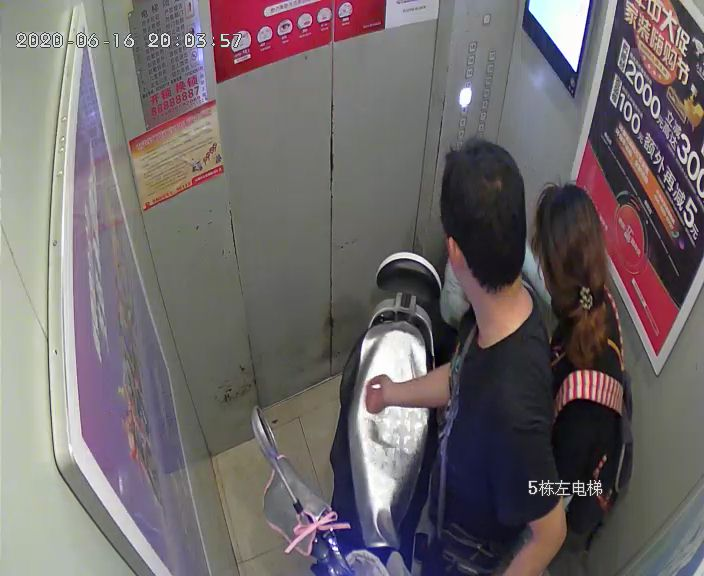Electric-bicycle: (251, 249, 439, 576)
